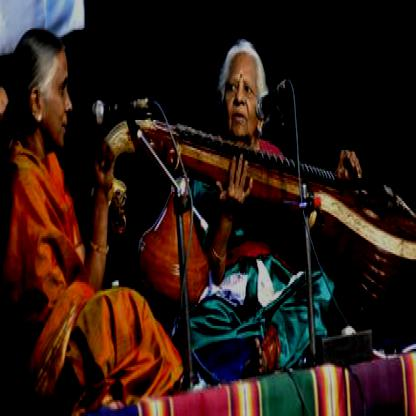Veena: (117, 87, 416, 272)
